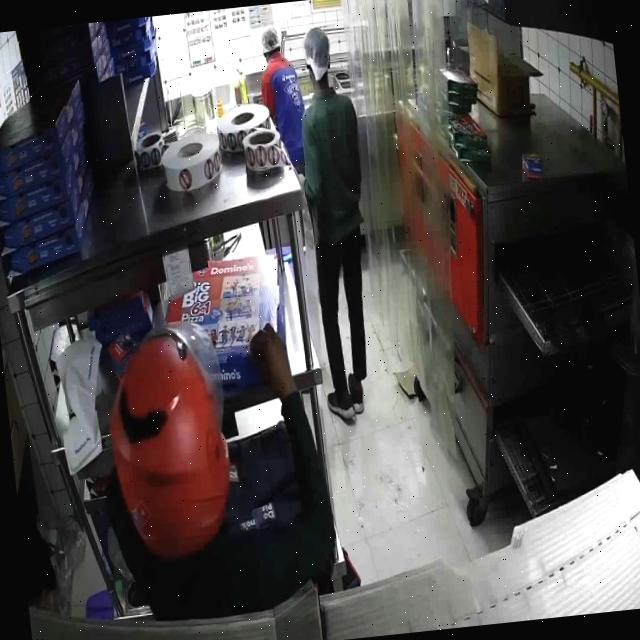helmet: (108, 319, 230, 557)
no_helmet: (302, 23, 330, 91), (260, 25, 280, 62)
